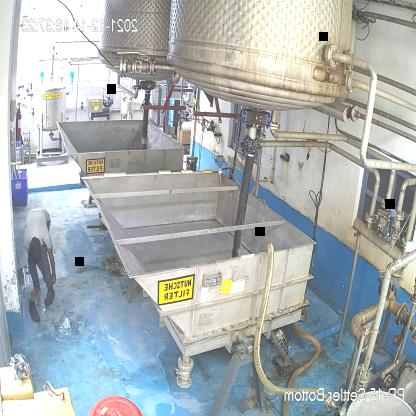no_shoes: (27, 281, 42, 301)
shoes: (26, 297, 41, 323), (43, 283, 57, 310)
